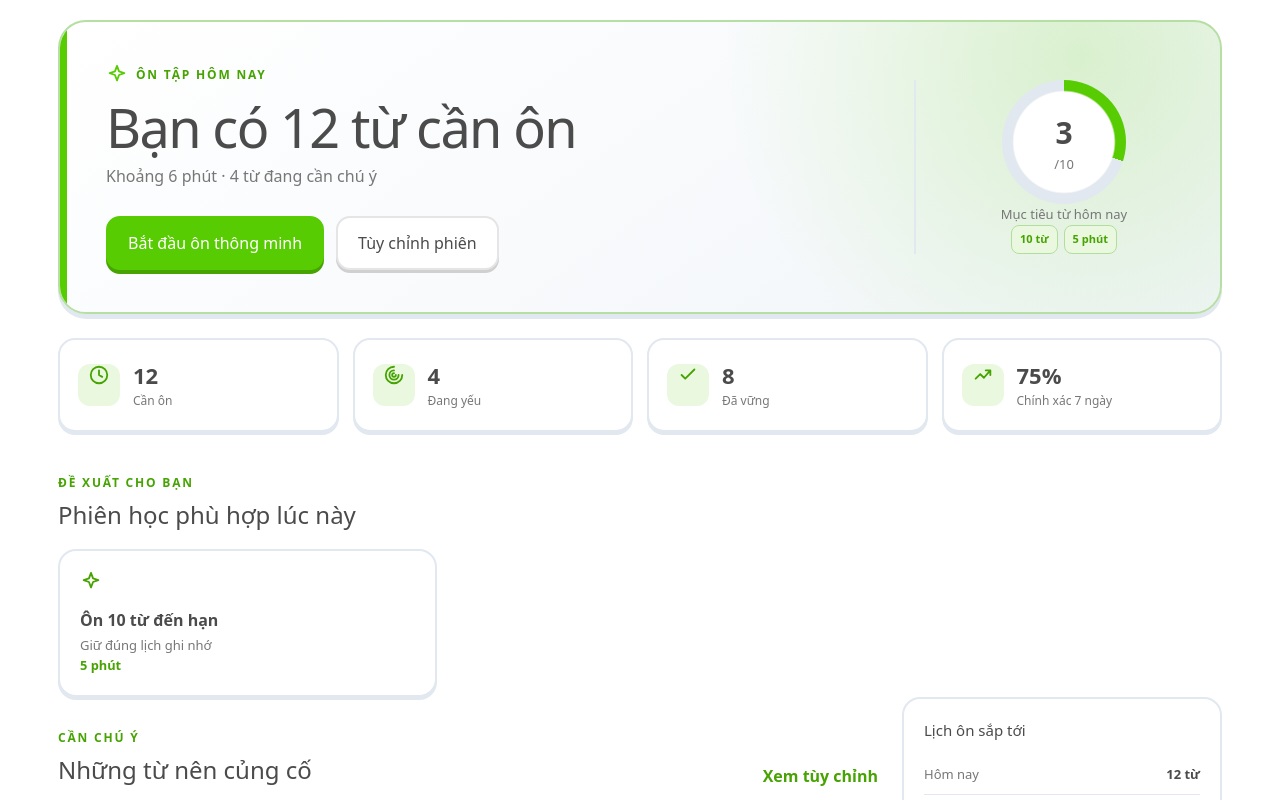
Scenario: VocabularyReviewPage › opens advanced setup without exposing flashcard controls
Click the button "Tùy chỉnh phiên" at (417, 243), box [336, 216, 499, 270]
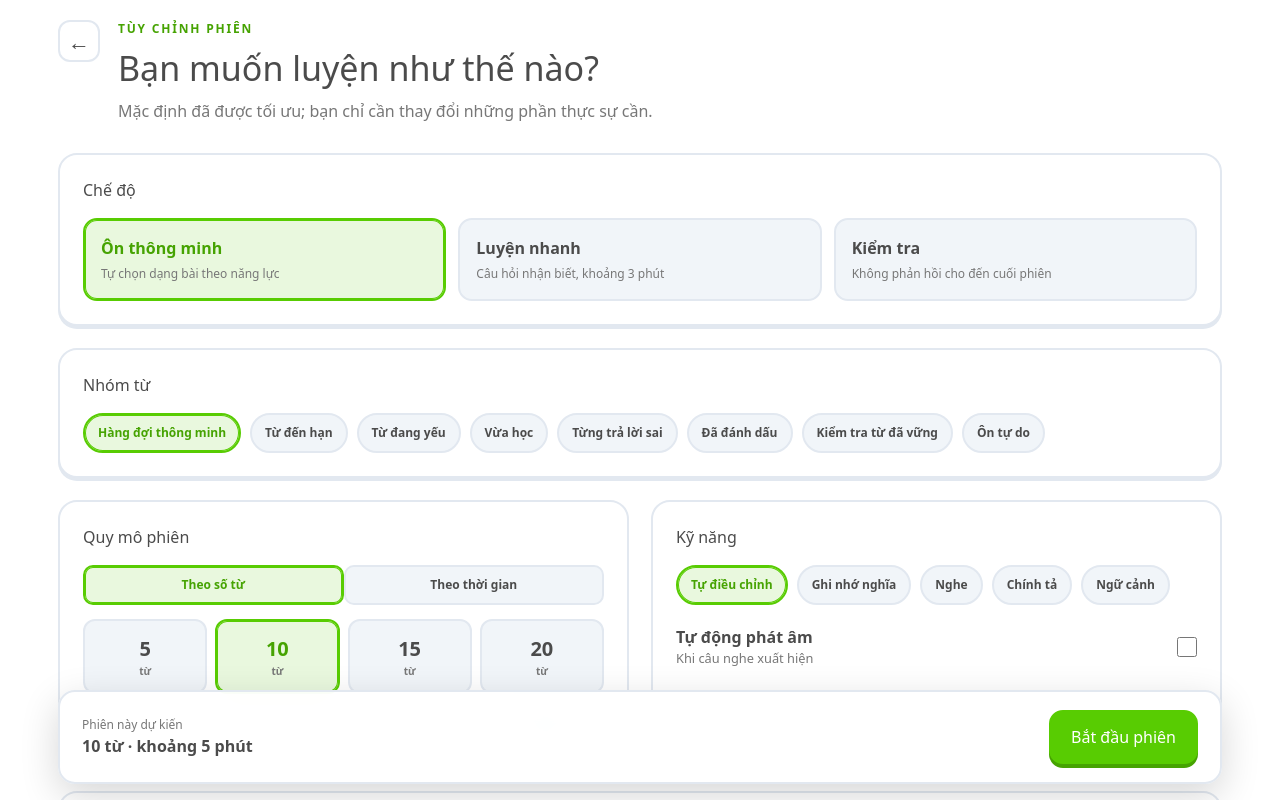
Expected: the heading "Bạn muốn luyện như thế nào?" is shown, [118, 43, 653, 94]
Expected: the text "Kiểm tra" is shown, [852, 236, 920, 260]
